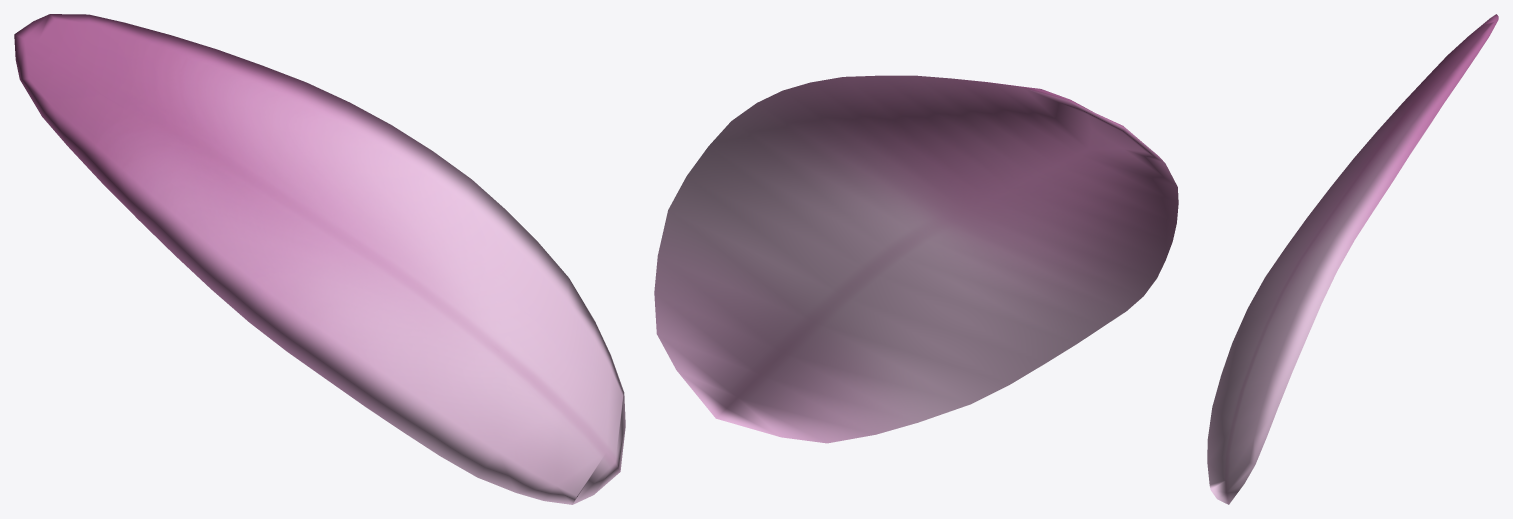
File: petal8.obj
3 renders of one model, left to right at view 1: azimuth 30°, elevation 25°; view 2: azimuth 150°, elevation 25°; view 3: azimuth 270°, elevation 25°, orthographic. The views are drawn at different scales.
Parts seen in each view (by area): view 1: Object032; view 2: Object032; view 3: Object032.
Part boxes in pixels (x1=…): Object032: x1=14, y1=14, x2=625, y2=504; Object032: x1=654, y1=75, x2=1178, y2=443; Object032: x1=1207, y1=14, x2=1498, y2=504.
Bounding box in the file's own units: 85.48 × 76.9 × 59.44.
